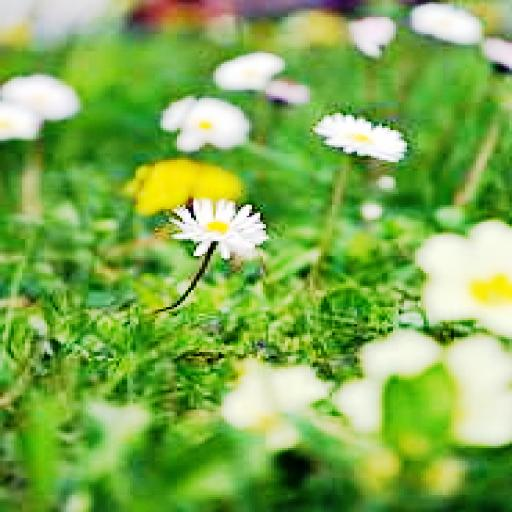daisy: (166, 196, 263, 254), (316, 107, 402, 160), (161, 98, 249, 147), (6, 75, 80, 115), (412, 6, 484, 40), (216, 54, 282, 86)
